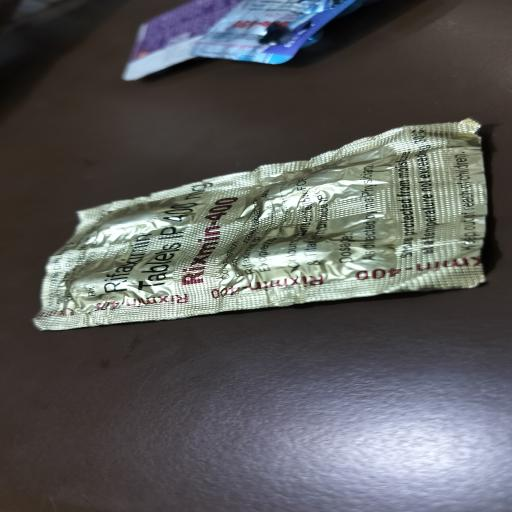medicine: (40, 152, 512, 329)
rifaximin: (101, 174, 195, 294), (166, 189, 244, 288), (353, 252, 485, 286), (196, 275, 332, 297), (82, 290, 198, 310)
